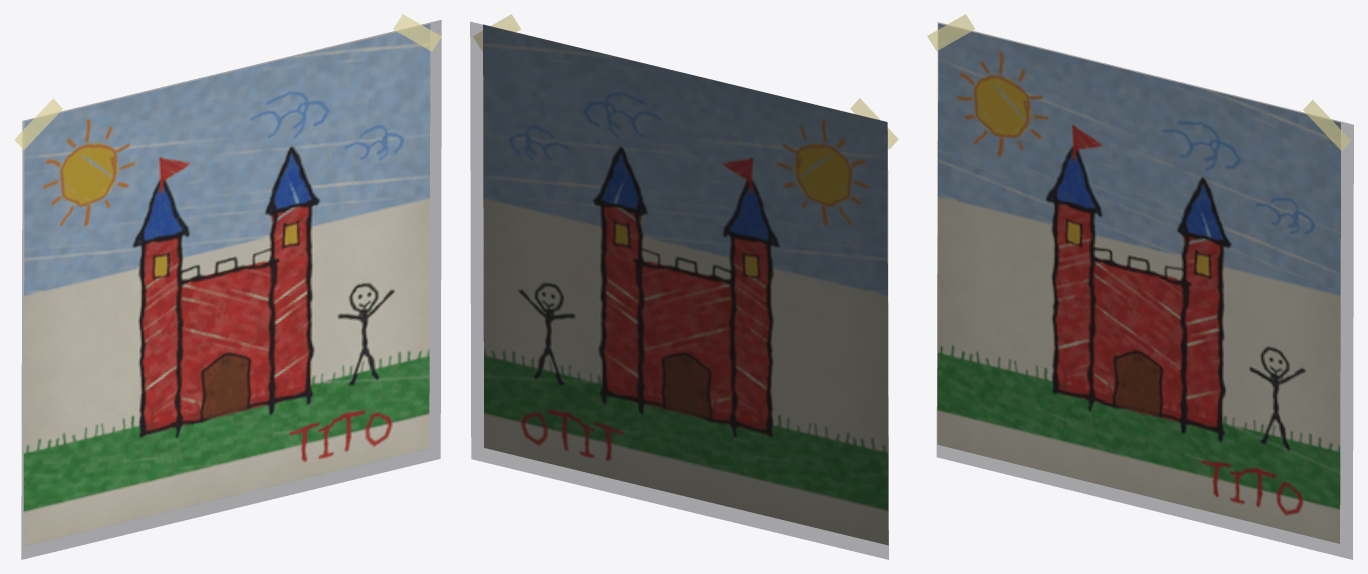
File: desenho_1.glb
3 views of the same model, side by side, from view 1: azimuth 30°, elevation 25°; view 2: azimuth 150°, elevation 25°; view 3: azimuth 330°, elevation 25° (orthographic).
Parts seen in each view (by area): view 1: _MeshInstance3D_725_2, _MeshInstance3D_724_3, _MeshInstance3D_727_0, _MeshInstance3D_726_1; view 2: _MeshInstance3D_724_3, _MeshInstance3D_725_2; view 3: _MeshInstance3D_725_2, _MeshInstance3D_724_3, _MeshInstance3D_726_1, _MeshInstance3D_727_0.
Part boxes in pixels (x1=…): _MeshInstance3D_725_2: x1=23, y1=24, x2=430, y2=546; _MeshInstance3D_724_3: x1=21, y1=20, x2=441, y2=559; _MeshInstance3D_727_0: x1=393, y1=14, x2=441, y2=51; _MeshInstance3D_726_1: x1=14, y1=98, x2=62, y2=149; _MeshInstance3D_724_3: x1=470, y1=22, x2=888, y2=559; _MeshInstance3D_725_2: x1=483, y1=24, x2=888, y2=544; _MeshInstance3D_725_2: x1=937, y1=23, x2=1340, y2=543; _MeshInstance3D_724_3: x1=937, y1=22, x2=1353, y2=559; _MeshInstance3D_726_1: x1=927, y1=14, x2=974, y2=51; _MeshInstance3D_727_0: x1=1303, y1=99, x2=1350, y2=150.
Bounding box in the file's own units: 0.9512 × 0.9669 × 0.005.
3 materials, 1 textured.
